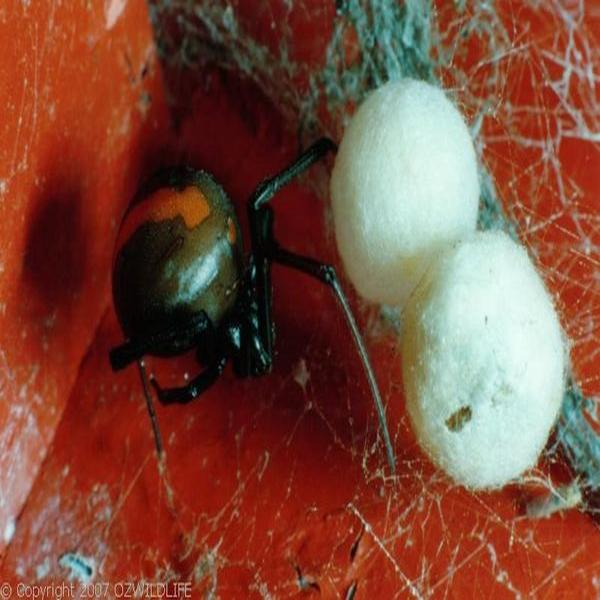Redback Spider: (114, 137, 397, 474)
